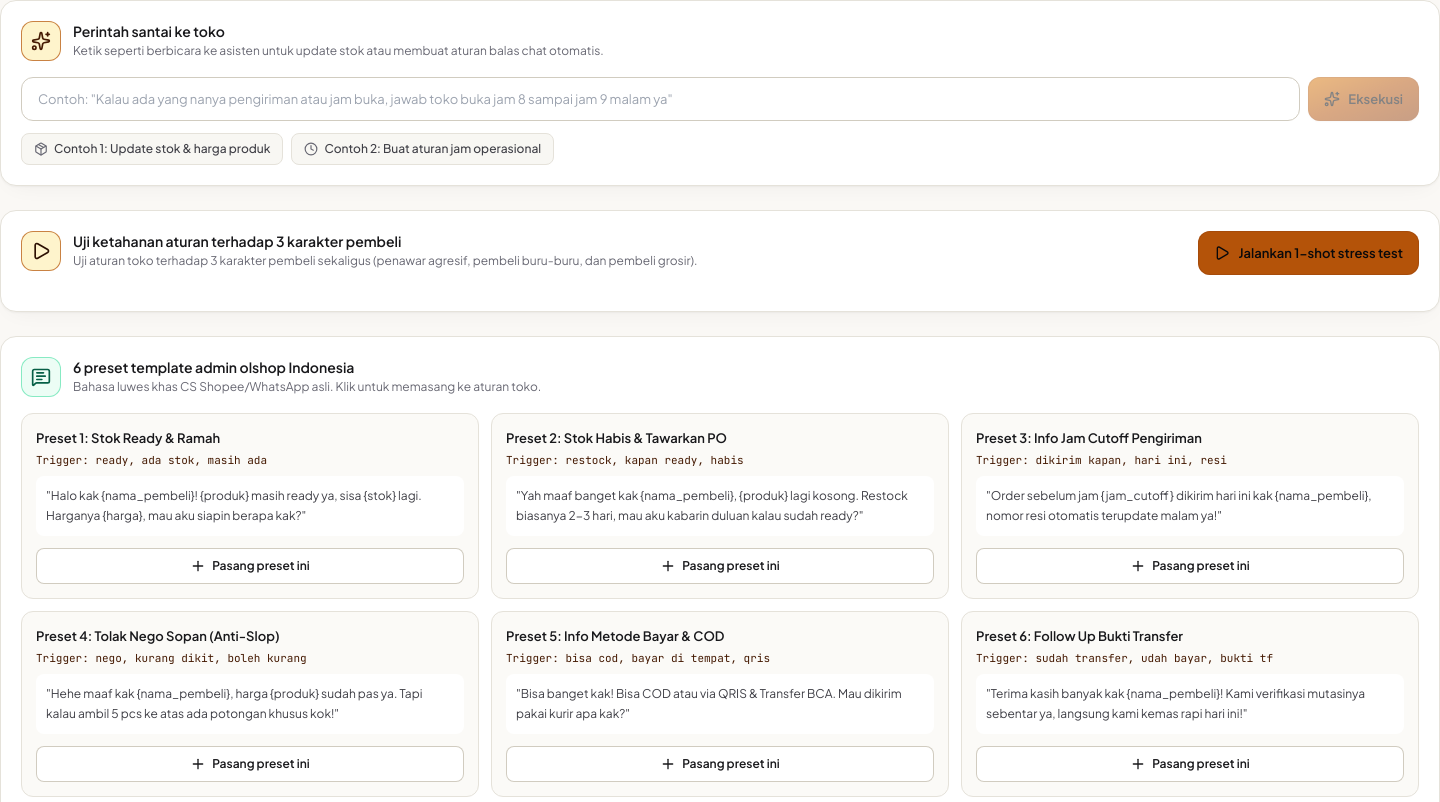
Test: StoreStudio › perintah gagal: tampil "Error: …" bergaya error dan input dipertahankan
Type "x" into the field named "Perintah untuk asisten toko" at (661, 99), box [21, 77, 1300, 121]
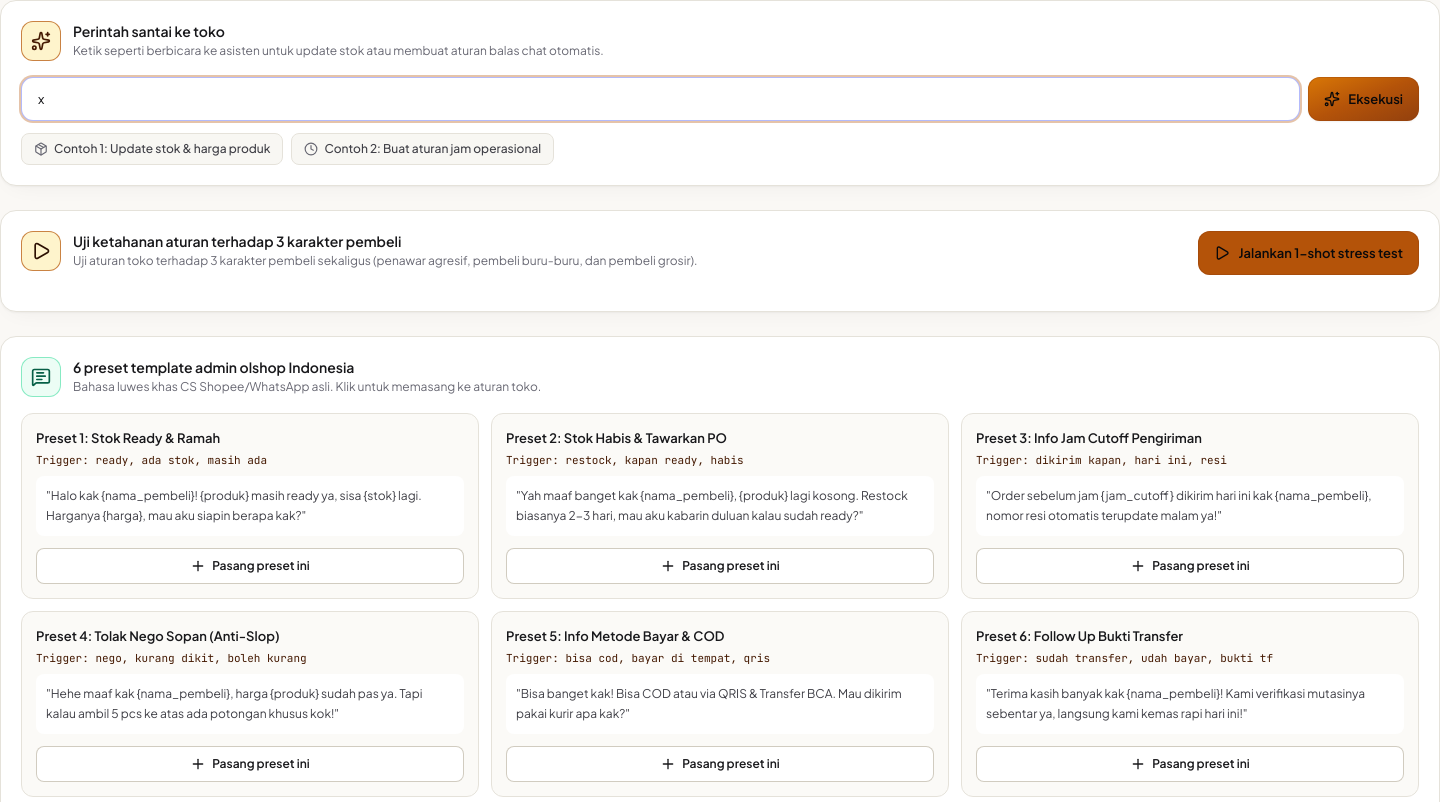
Click the button "Eksekusi" at (1364, 99), box [1308, 77, 1419, 121]
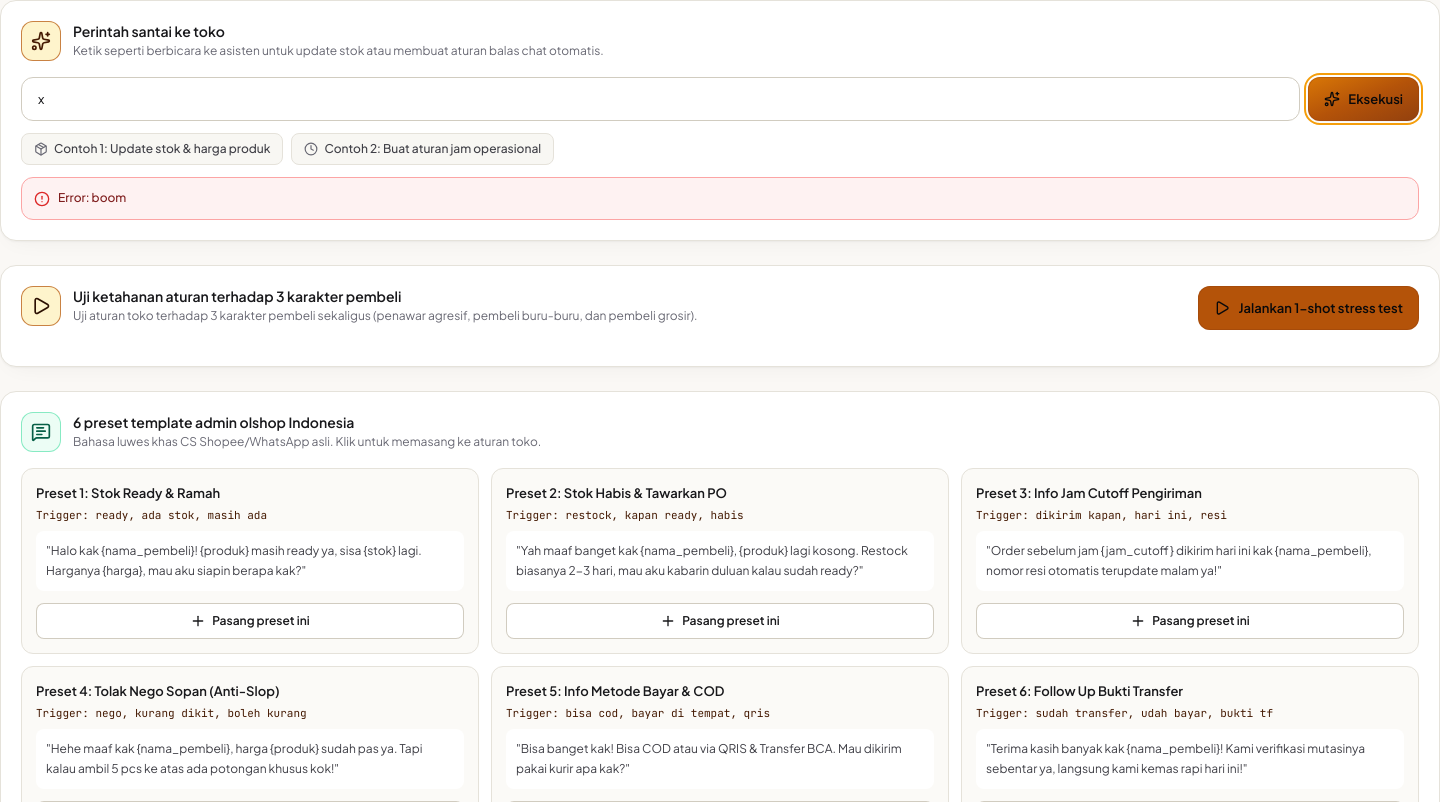
Check: the text "Error: boom" is shown, box [58, 190, 126, 206]
